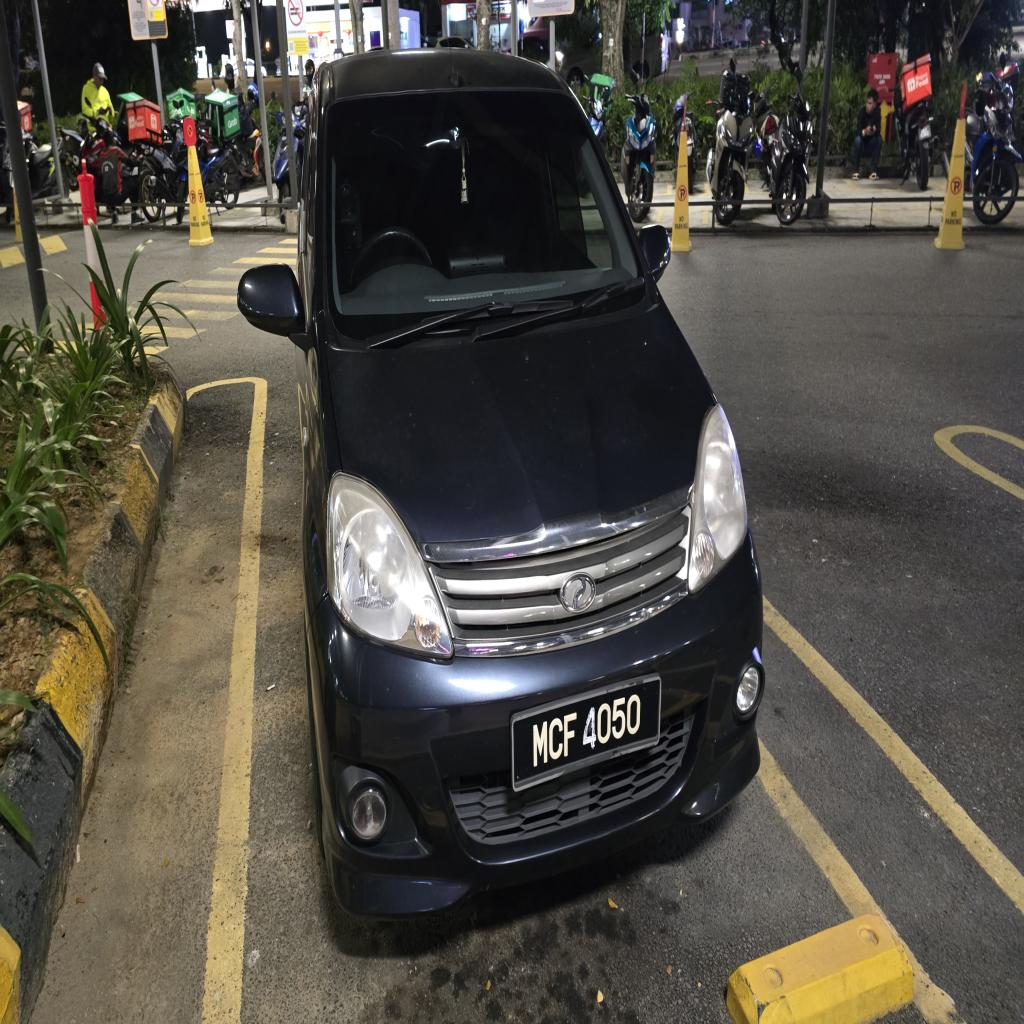car: (237, 49, 763, 916)
car plate: (511, 675, 661, 790)
